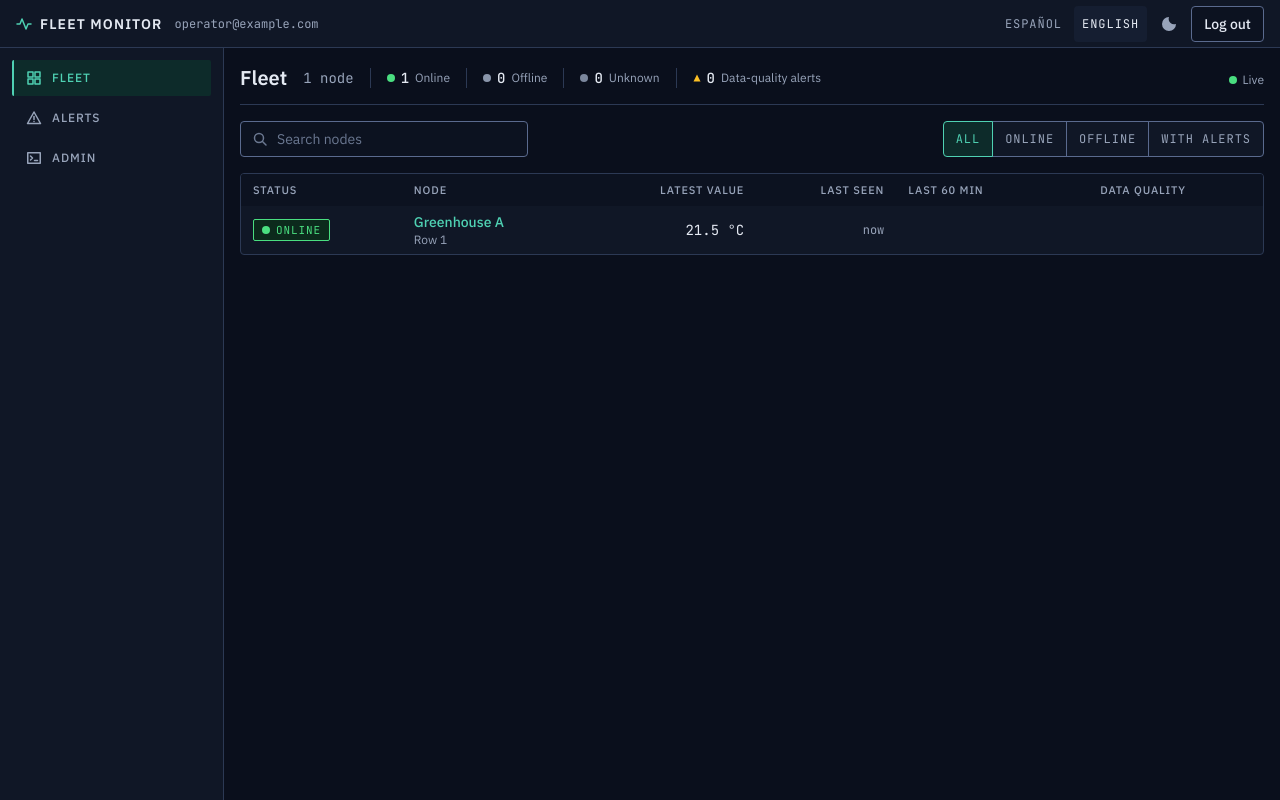
Realtime across route changes › shows the header as live after a clean load and after Fleet -> Node -> Fleet (H-4)
Expected: the text "21.5 °C" is shown, x1=685 y1=221 x2=744 y2=239
Expected: the text "Live" is shown, x1=1243 y1=72 x2=1264 y2=88
Click the link "Greenhouse A".
click(459, 222)  # box x1=414 y1=212 x2=504 y2=232
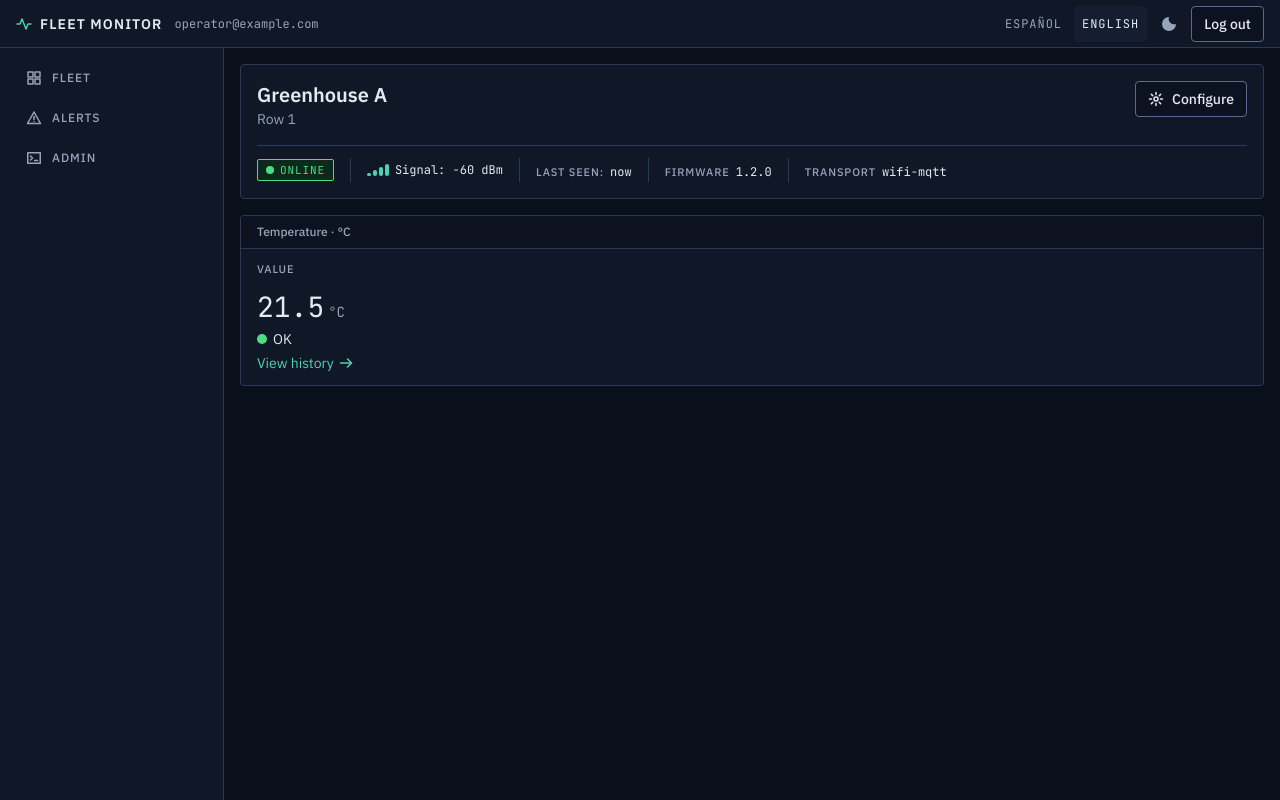
Now the heading "Greenhouse A" is shown, box x1=257 y1=81 x2=387 y2=109
Click the link "Fleet".
click(58, 78)  # box x1=26 y1=70 x2=91 y2=86
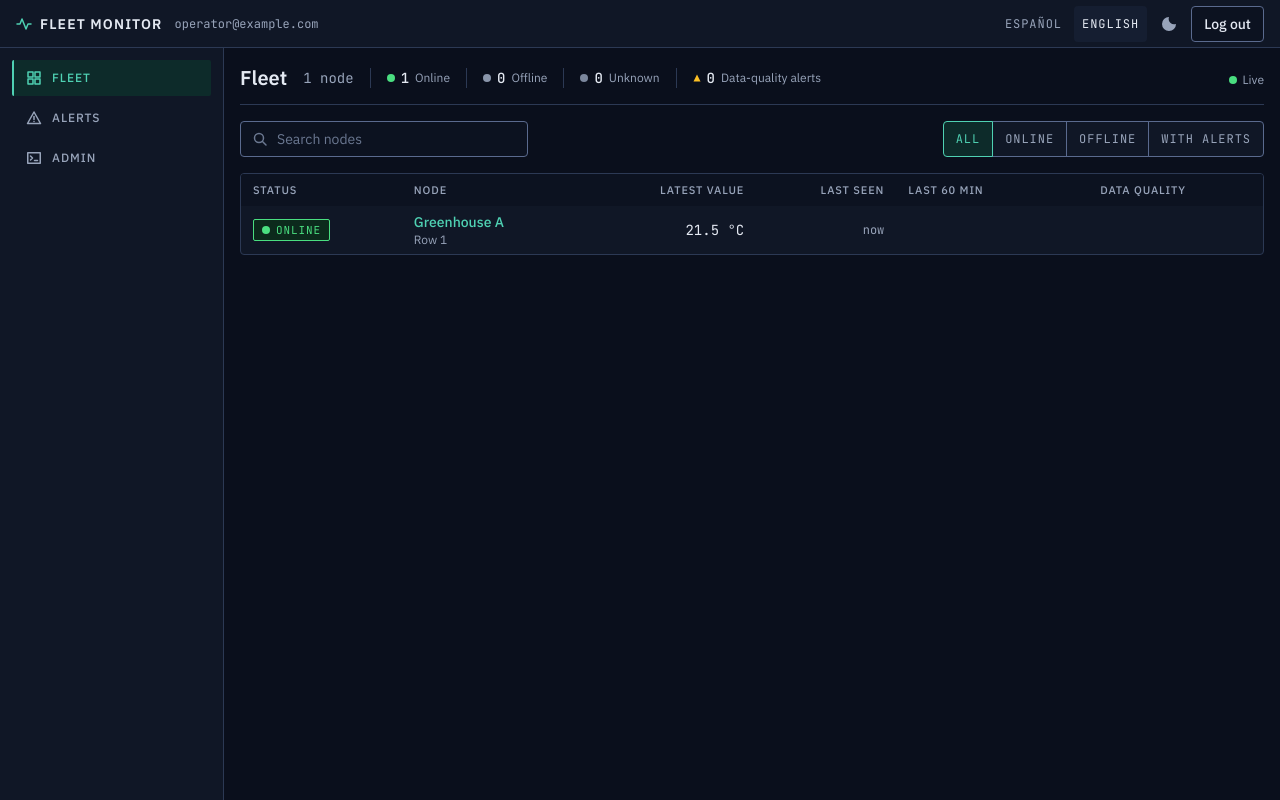
Expected: the link "Greenhouse A" is shown, x1=414 y1=212 x2=504 y2=232
Now the text "Live" is shown, box x1=1243 y1=72 x2=1264 y2=88
